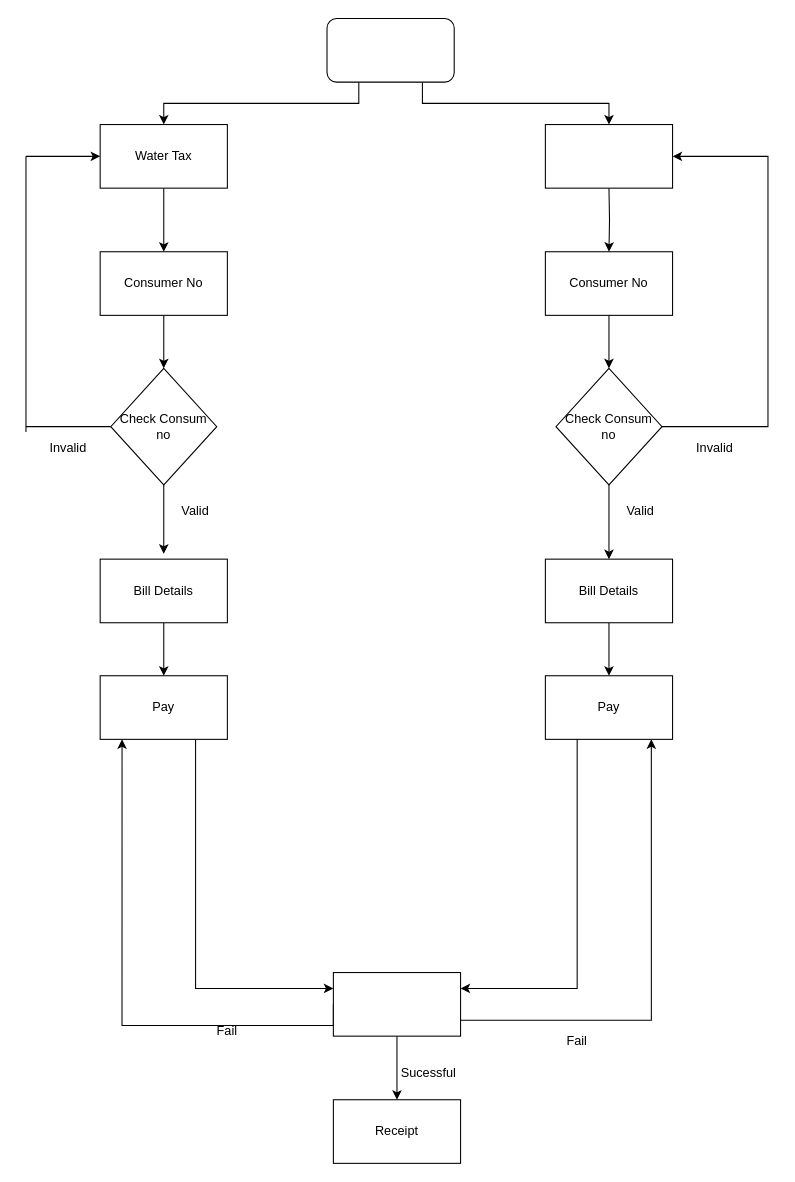
Image size: 795x1182. Some labels were removed from this diagram. Here are the shapes that lost their labels. From the top down, the box of each, then its label:
(326, 17, 454, 82): Payment
(544, 123, 673, 188): Property Tax
(332, 971, 461, 1036): Payment Gateway
